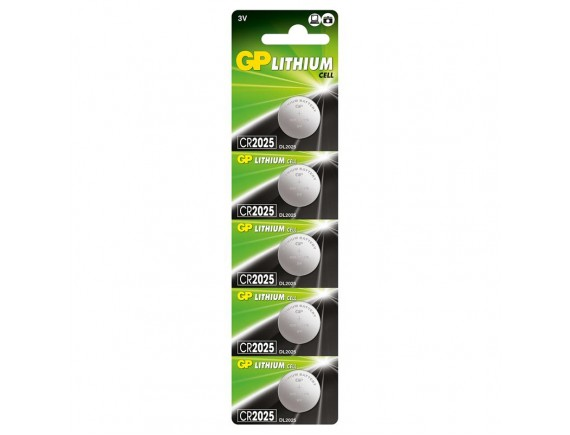Battery: (274, 296, 323, 347), (274, 229, 323, 278), (273, 367, 323, 415), (275, 93, 323, 142), (275, 162, 322, 208)
